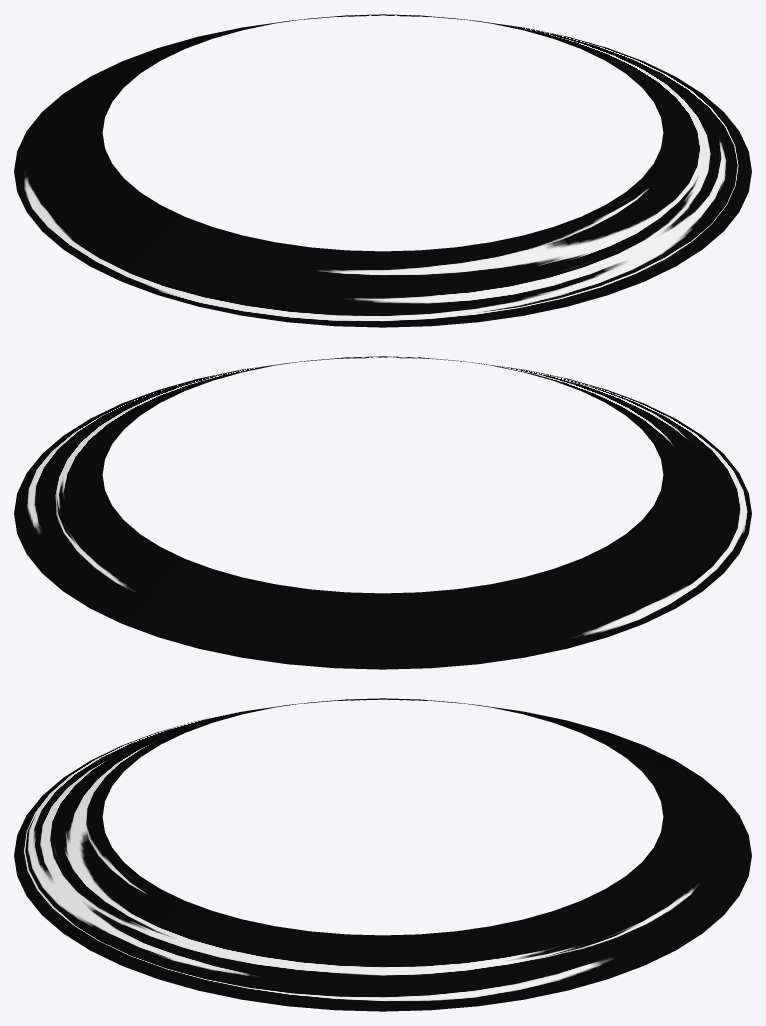
The model's file is WindSlash.fbx.
The picture shows the model from 3 angles, top to bottom: view 1: azimuth 30°, elevation 25°; view 2: azimuth 150°, elevation 25°; view 3: azimuth 270°, elevation 25°; orthographic projection.
Visible parts, largest first — view 1: SM_e_Plc_P1012_Ring001.001; view 2: SM_e_Plc_P1012_Ring001.001; view 3: SM_e_Plc_P1012_Ring001.001.
Boxes of the visible parts, <box> form: SM_e_Plc_P1012_Ring001.001: <box>14,14,751,327</box>; SM_e_Plc_P1012_Ring001.001: <box>14,356,751,669</box>; SM_e_Plc_P1012_Ring001.001: <box>14,698,751,1011</box>.
Size of the model in its own units: 99.15 by 5.74 by 99.15.
